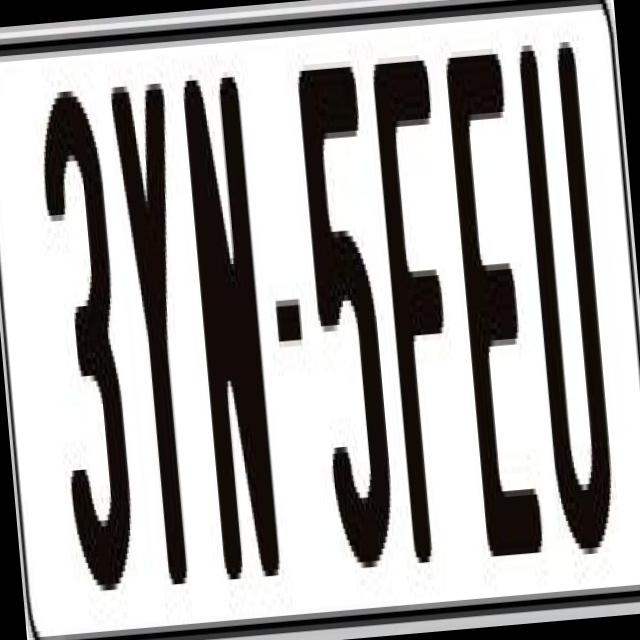3: (35, 72, 138, 580)
5: (292, 61, 398, 570)
E: (440, 46, 547, 552)
F: (371, 48, 468, 552)
N: (182, 76, 282, 596)
U: (512, 35, 614, 556)
Y: (106, 76, 210, 580)
